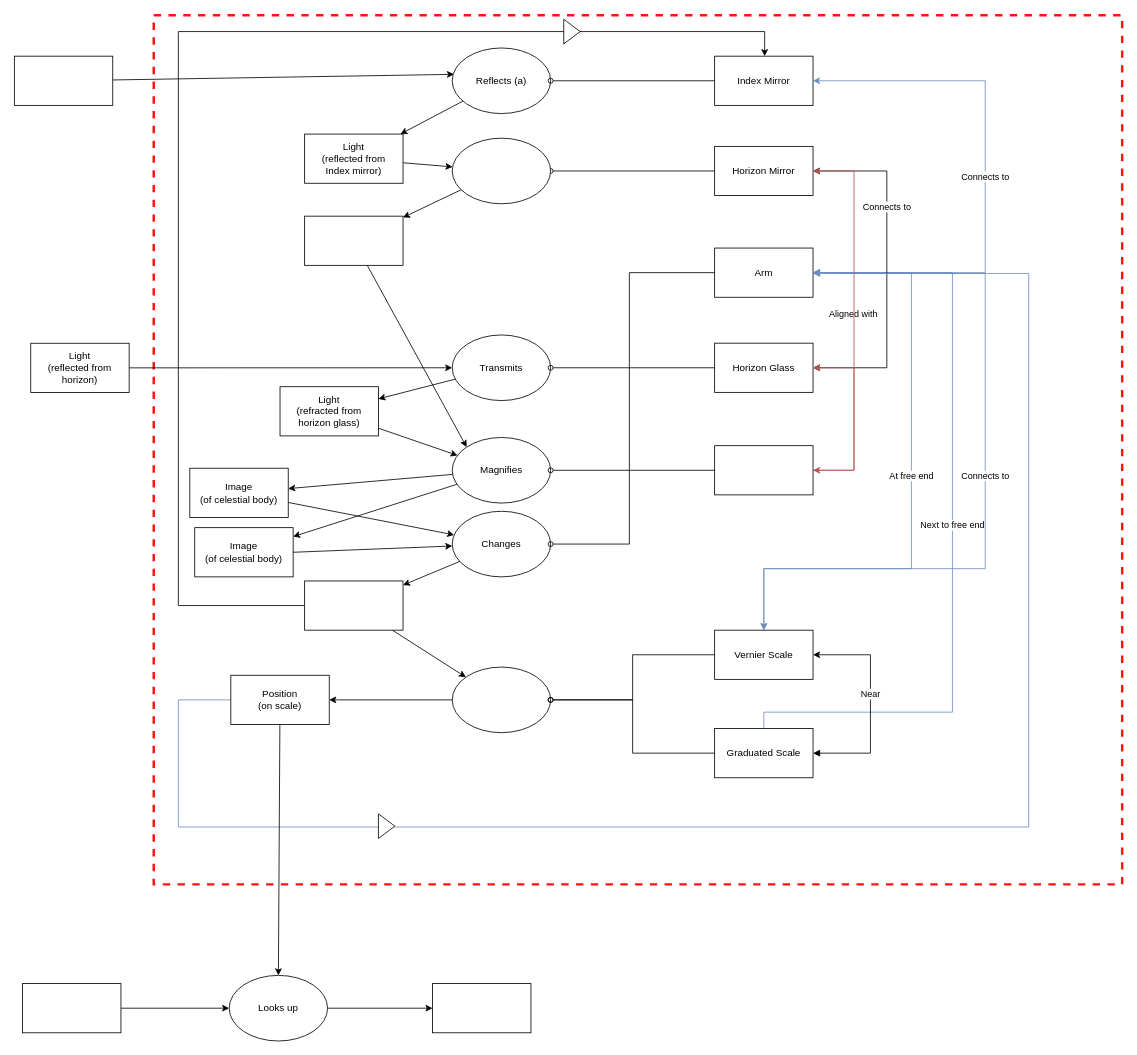
The diagram is 1137 pixels wide and 1055 high, and some of its shapes have lost their labels. The box of each missing label's shape, as (x1, y1, x2, y2) in pixels:
Light (reflected from celestial body): (14, 55, 113, 105)
Light (reflected from horizon mirror): (304, 215, 403, 265)
Location of marine vessel: (432, 983, 531, 1033)
Lookup Table: (22, 983, 121, 1033)
Measures: (451, 666, 551, 733)
Orientation: (304, 580, 403, 630)
Reflects (b): (451, 137, 551, 204)
Telescope: (714, 445, 813, 495)
